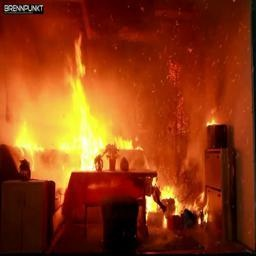fire: (2, 27, 159, 186)
